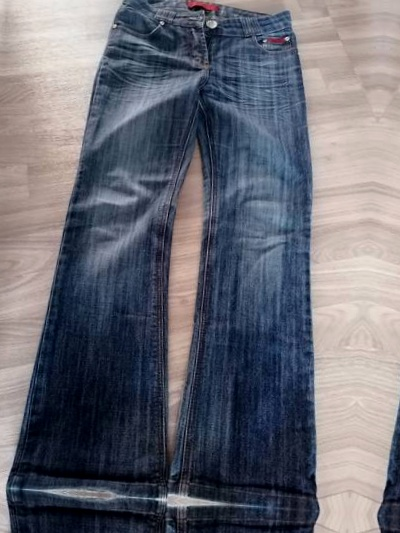Pants: (0, 0, 341, 510), (0, 489, 303, 533), (394, 17, 400, 533), (357, 518, 400, 533)
